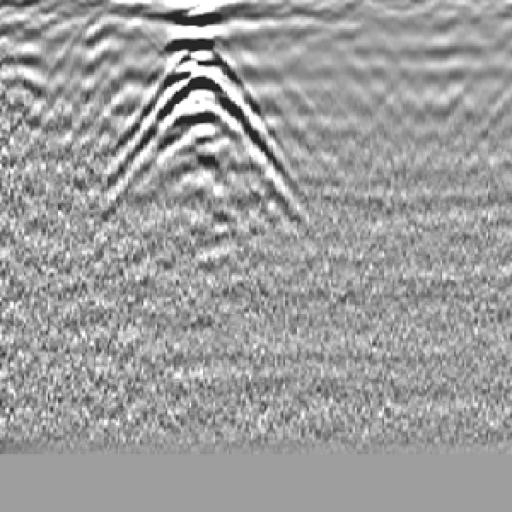metalic: (109, 25, 296, 216)
